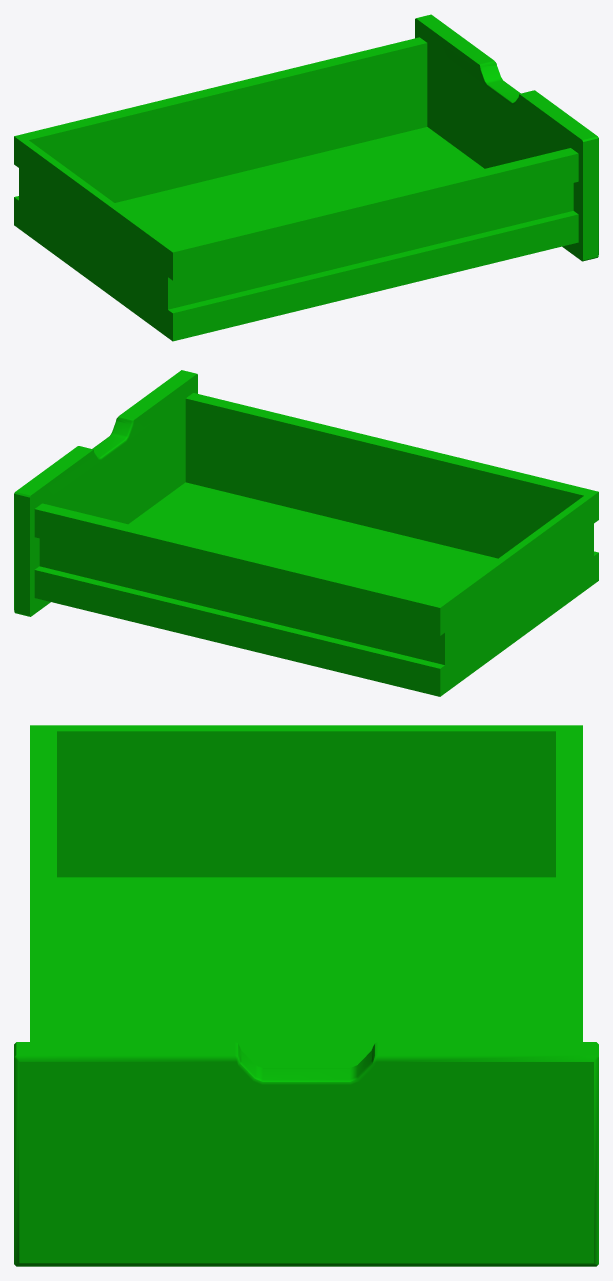
File: tiroirhaut_low.fbx
The picture shows the model from 3 angles, top to bottom: view 1: azimuth 30°, elevation 25°; view 2: azimuth 150°, elevation 25°; view 3: azimuth 270°, elevation 25°; orthographic projection. The views are drawn at different scales.
Parts seen in each view (by area): view 1: TiroirHaut12_low; view 2: TiroirHaut12_low; view 3: TiroirHaut12_low.
Part boxes in pixels (x1,y1,x2,y2): TiroirHaut12_low: (14,14,598,341); TiroirHaut12_low: (14,370,598,696); TiroirHaut12_low: (14,725,598,1266).
Size of the model in its own units: 98.94 by 27.12 by 68.01.
